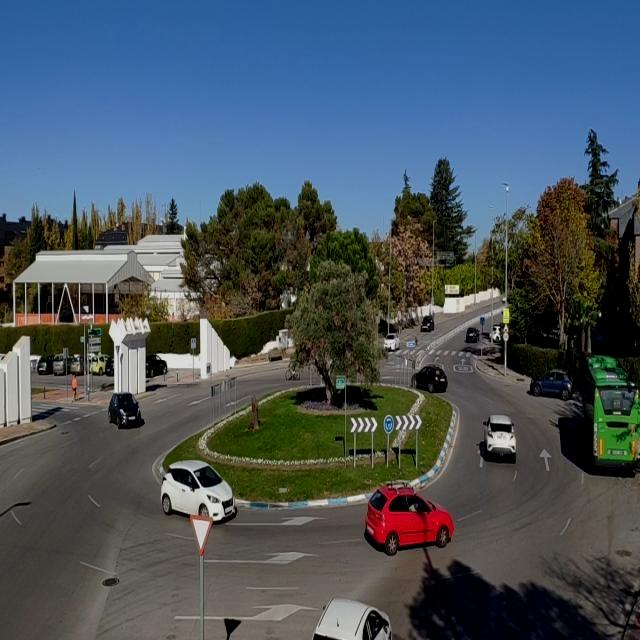Bus: (579, 352, 640, 469)
Car: (364, 485, 457, 555), (162, 459, 237, 523), (313, 597, 392, 639), (482, 416, 518, 458), (108, 393, 144, 428), (531, 369, 573, 398), (412, 366, 448, 393), (146, 355, 166, 377), (90, 355, 105, 376), (384, 333, 401, 351), (69, 356, 84, 376), (104, 356, 115, 376), (466, 328, 480, 343), (422, 316, 434, 331), (492, 328, 502, 344), (37, 360, 48, 374)
